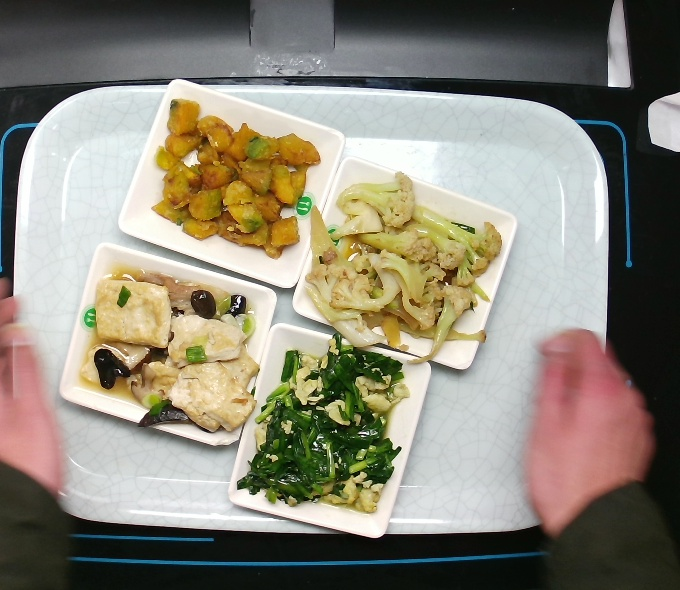wcq-DanHuangNanGua: (154, 100, 328, 262)
wcq-JiaChangDouFu: (75, 255, 271, 444)
wcq-JiuCaiJiDan: (243, 338, 409, 521)
wcq-QiuCai: (295, 168, 505, 371)
